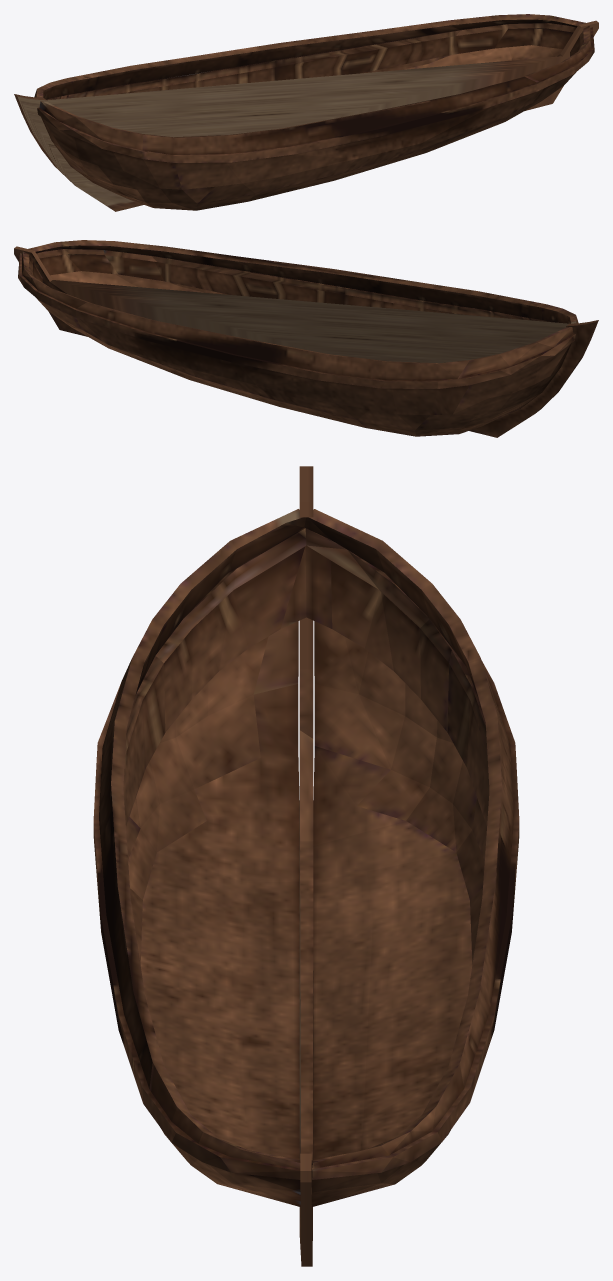
Rendered from SHIP.fbx.
3 views of the same model, one above another, from view 1: azimuth 30°, elevation 25°; view 2: azimuth 150°, elevation 25°; view 3: azimuth 270°, elevation 25° (orthographic). The views are drawn at different scales.
Visible parts, largest first — view 1: model_0.001; view 2: model_0.001; view 3: model_0.001.
Boxes of the visible parts, x1,y1,x2,y2 form: model_0.001: [14, 14, 598, 211]; model_0.001: [14, 240, 598, 437]; model_0.001: [93, 466, 519, 1266].
Size of the model in its own units: 1228 by 281 by 389.
